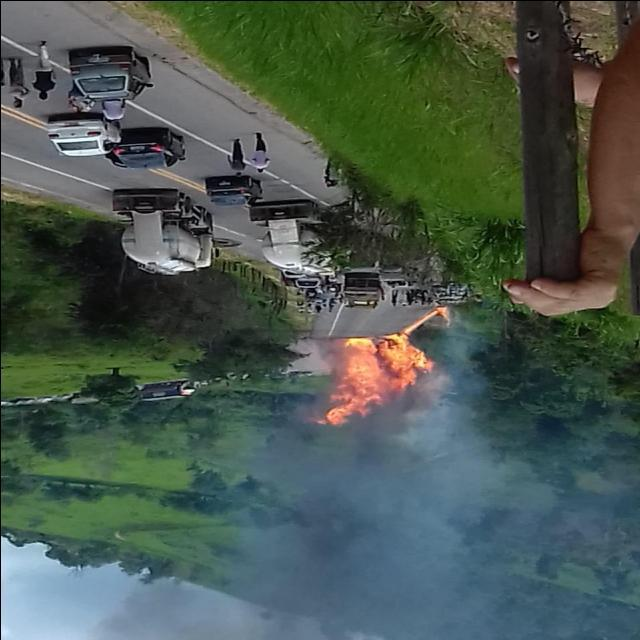Fire: (315, 306, 449, 426)
